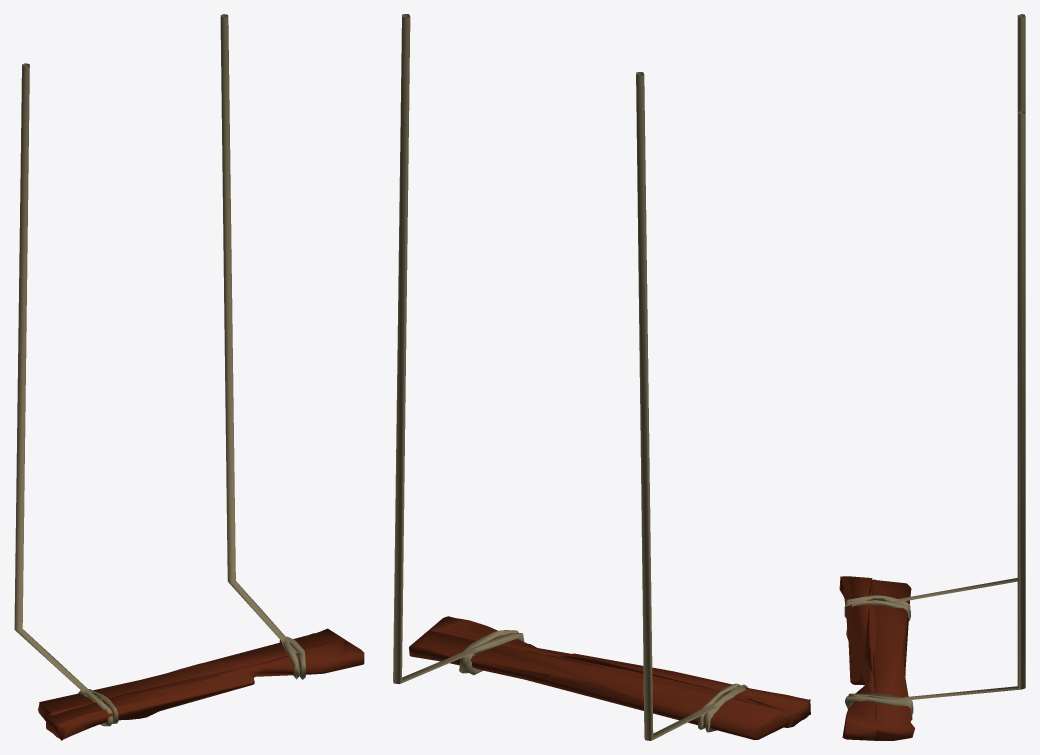
Rendered from smoosher.glb.
3 views of the same model, side by side, from view 1: azimuth 30°, elevation 25°; view 2: azimuth 150°, elevation 25°; view 3: azimuth 270°, elevation 25° (orthographic). The views are drawn at different scales.
Parts seen in each view (by area): view 1: smoosher_wood; view 2: smoosher_wood; view 3: smoosher_wood.
Part boxes in pixels (x1=…): smoosher_wood: x1=14, y1=14, x2=364, y2=740; smoosher_wood: x1=393, y1=14, x2=810, y2=740; smoosher_wood: x1=839, y1=14, x2=1025, y2=740.
Size of the model in its own units: 0.7434 by 1.39 by 0.3866.
